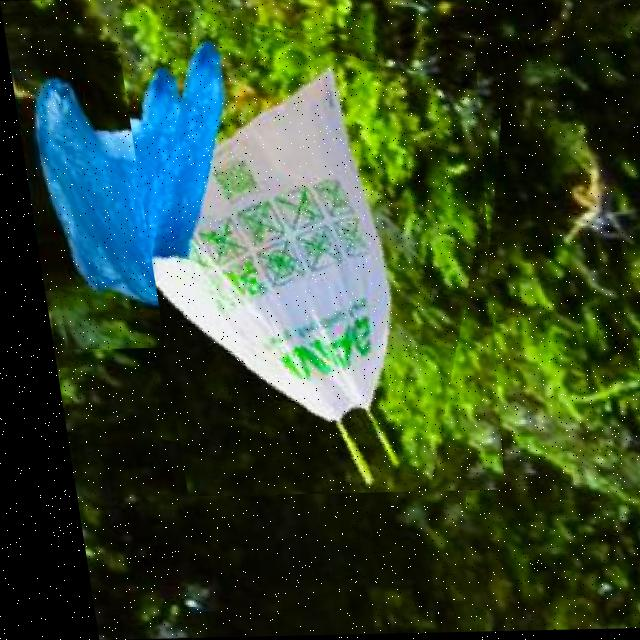plasticcover: (115, 21, 528, 496), (8, 39, 237, 349)
